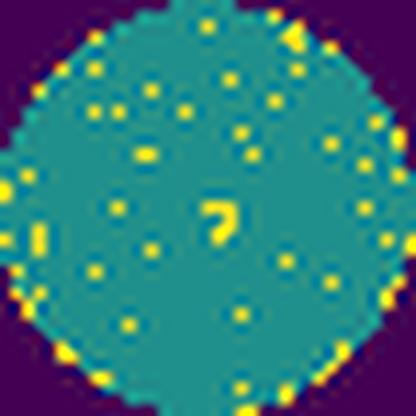Center: (198, 195, 244, 243)
